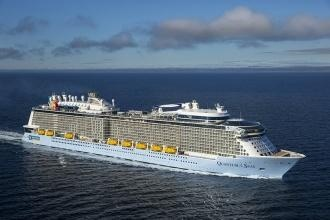youlun: (16, 90, 300, 178)
